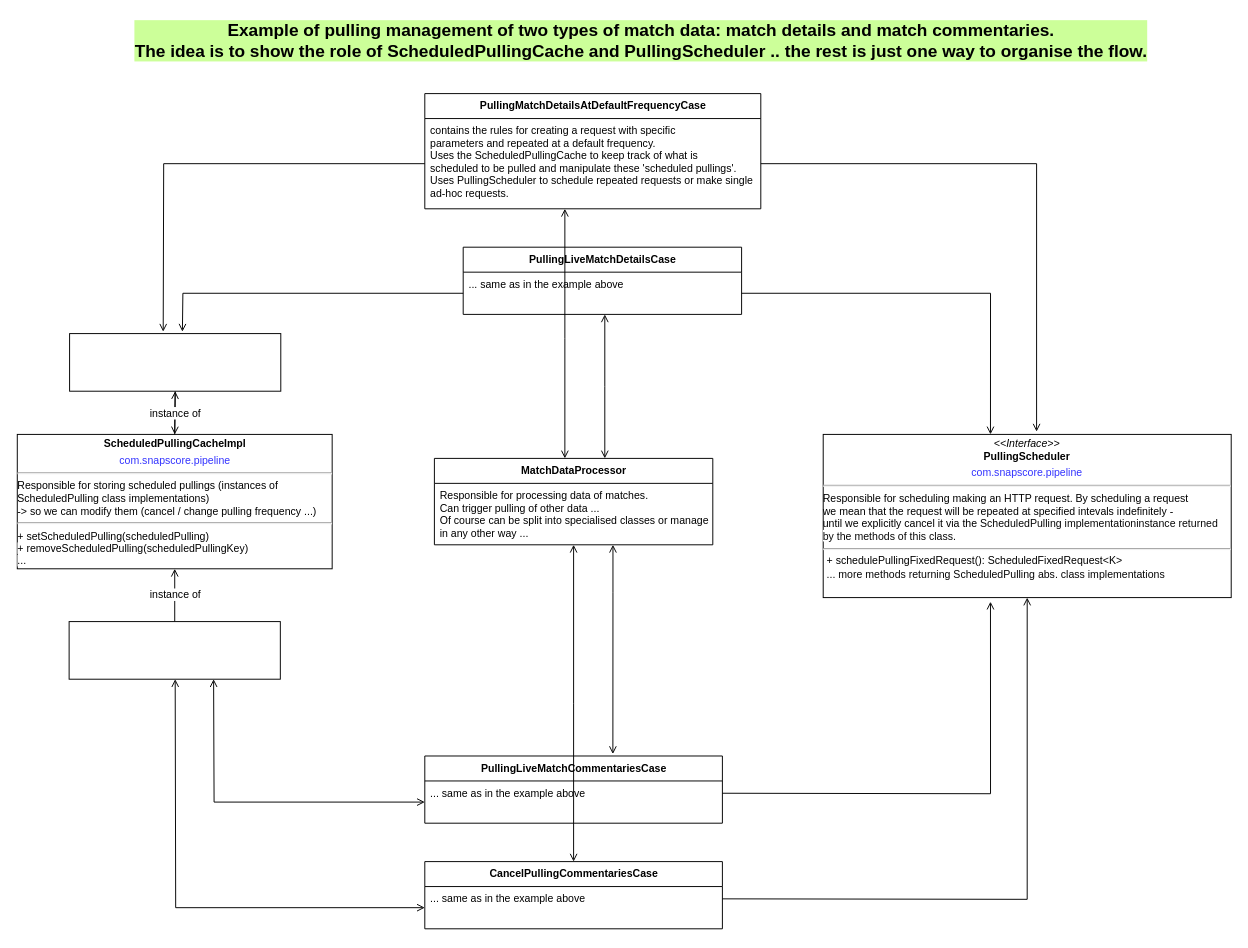
Image size: 1248x948. Some labels were removed from this diagram. The shapes that lost their labels are listed below. From the top down, each one's centre as x and y in pixels, then its label:
At point 175,362: "MatchDetailsScheduledPullingCache".
At point 174,650: "CommentariesScheduledPullingCache".
